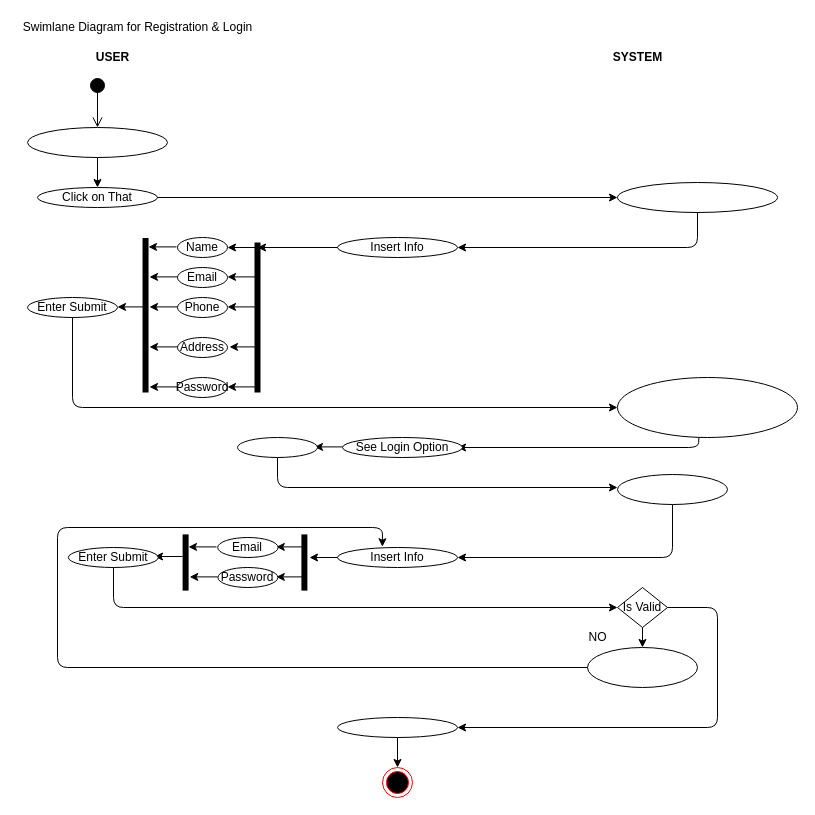
Image size: 815x815. Some labels were removed from this diagram. Here are the shapes that lost their labels. From the top down, the centre of each, then its label:
[97,142]: See Registration Option
[697,197]: Show Enter Registration Info
[707,407]: Show Massage Registration Successful
[277,447]: Click at Login
[672,489]: Show Enter Information
[642,667]: Show Login Failed Message
[397,727]: Go To Dashboard
